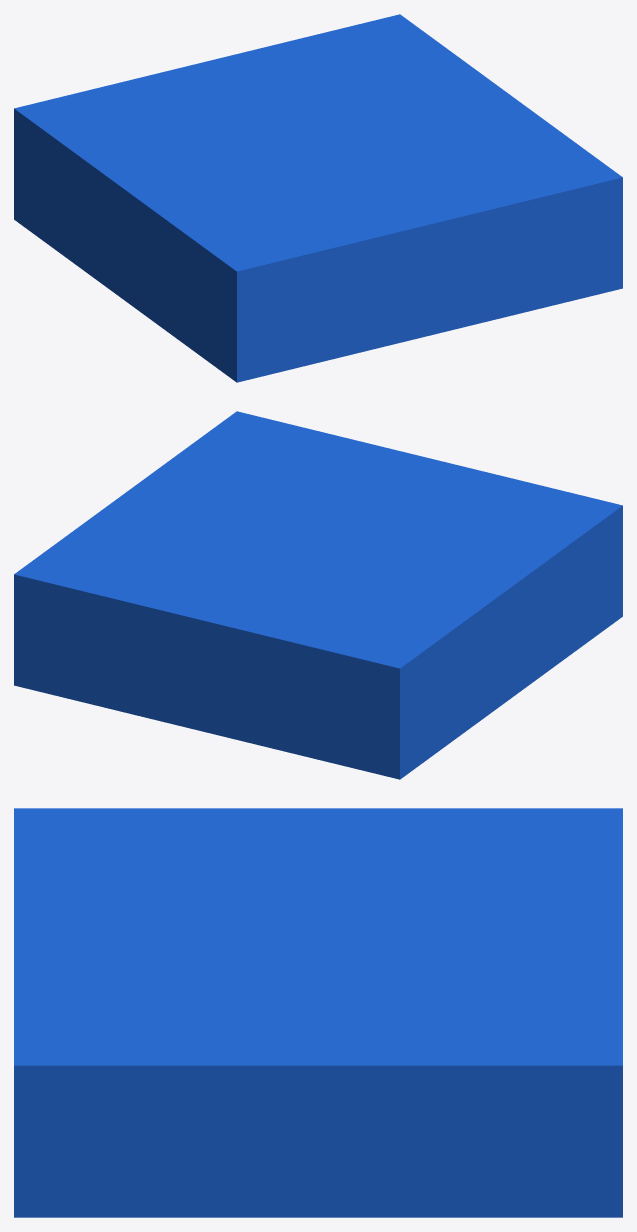
File: Tile_Ocean.fbx
The picture shows the model from 3 angles, top to bottom: view 1: azimuth 30°, elevation 25°; view 2: azimuth 150°, elevation 25°; view 3: azimuth 270°, elevation 25°; orthographic projection. The views are drawn at different scales.
Visible parts, largest first — view 1: Tile_Ocean; view 2: Tile_Ocean; view 3: Tile_Ocean.
Boxes of the visible parts, x1,y1,x2,y2 form: Tile_Ocean: [14, 14, 622, 382]; Tile_Ocean: [14, 411, 622, 779]; Tile_Ocean: [14, 808, 622, 1217].
Bounding box in the file's own units: 200 × 55 × 200.
